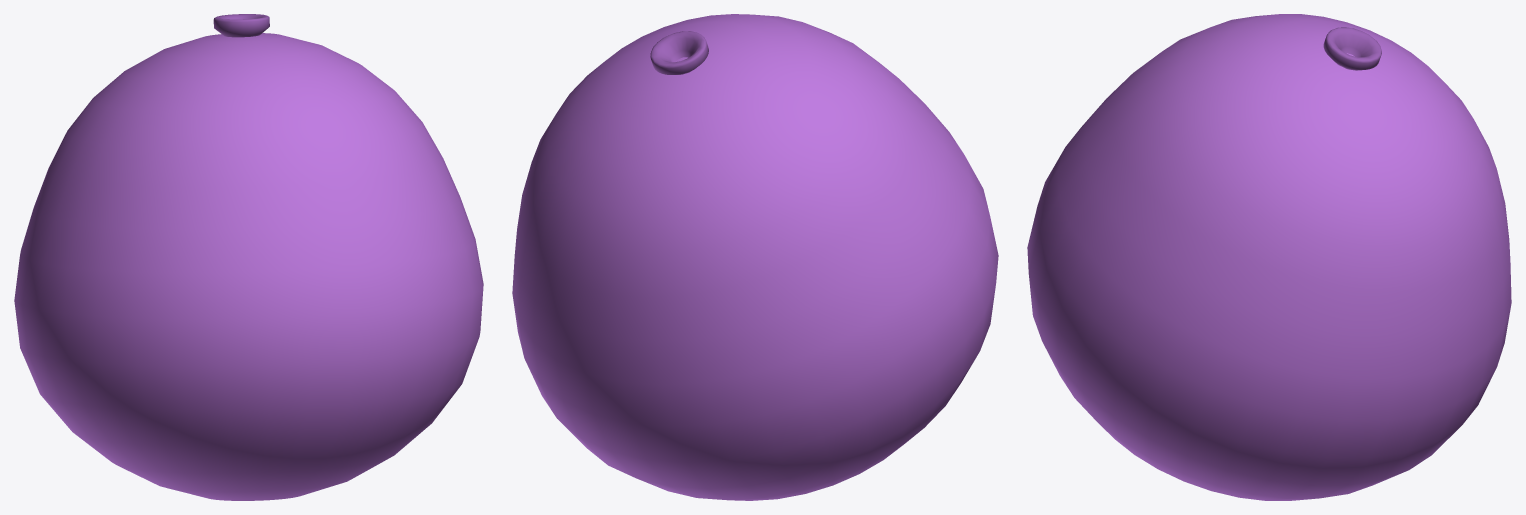
File: Purple Balloon.fbx
3 renders of one model, left to right at view 1: azimuth 30°, elevation 25°; view 2: azimuth 150°, elevation 25°; view 3: azimuth 270°, elevation 25°, orthographic. The views are drawn at different scales.
Parts seen in each view (by area): view 1: Purple_B; view 2: Purple_B; view 3: Purple_B.
Part boxes in pixels (x1,y1,x2,y2): Purple_B: (14,14,483,500); Purple_B: (512,14,998,500); Purple_B: (1027,14,1511,500).
Bounding box in the file's own units: 104 × 107 × 103.
